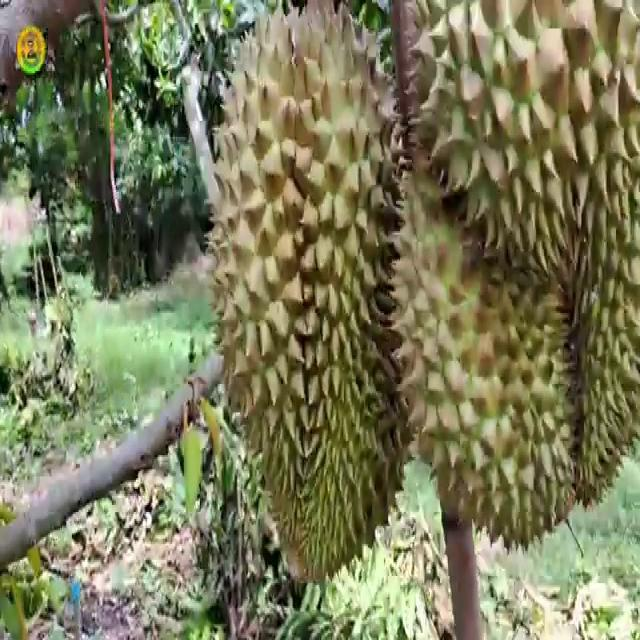durian: (385, 3, 639, 560), (199, 0, 423, 588)
